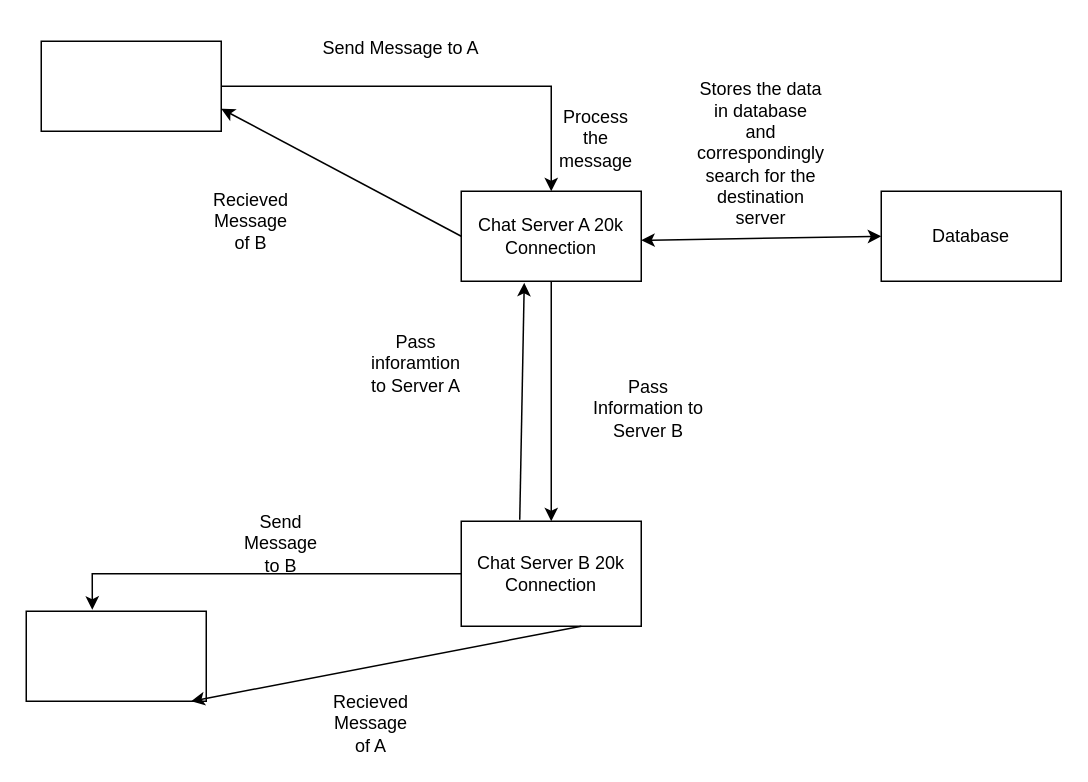
This 1088x782 diagram has some shape labels left out. The box of each missing label's shape, as (x1, y1, x2, y2) in pixels:
User1: (40, 40, 221, 131)
User2: (25, 610, 206, 701)
